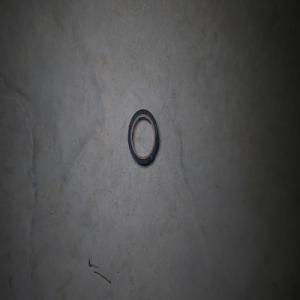Tape: (127, 109, 159, 166)
